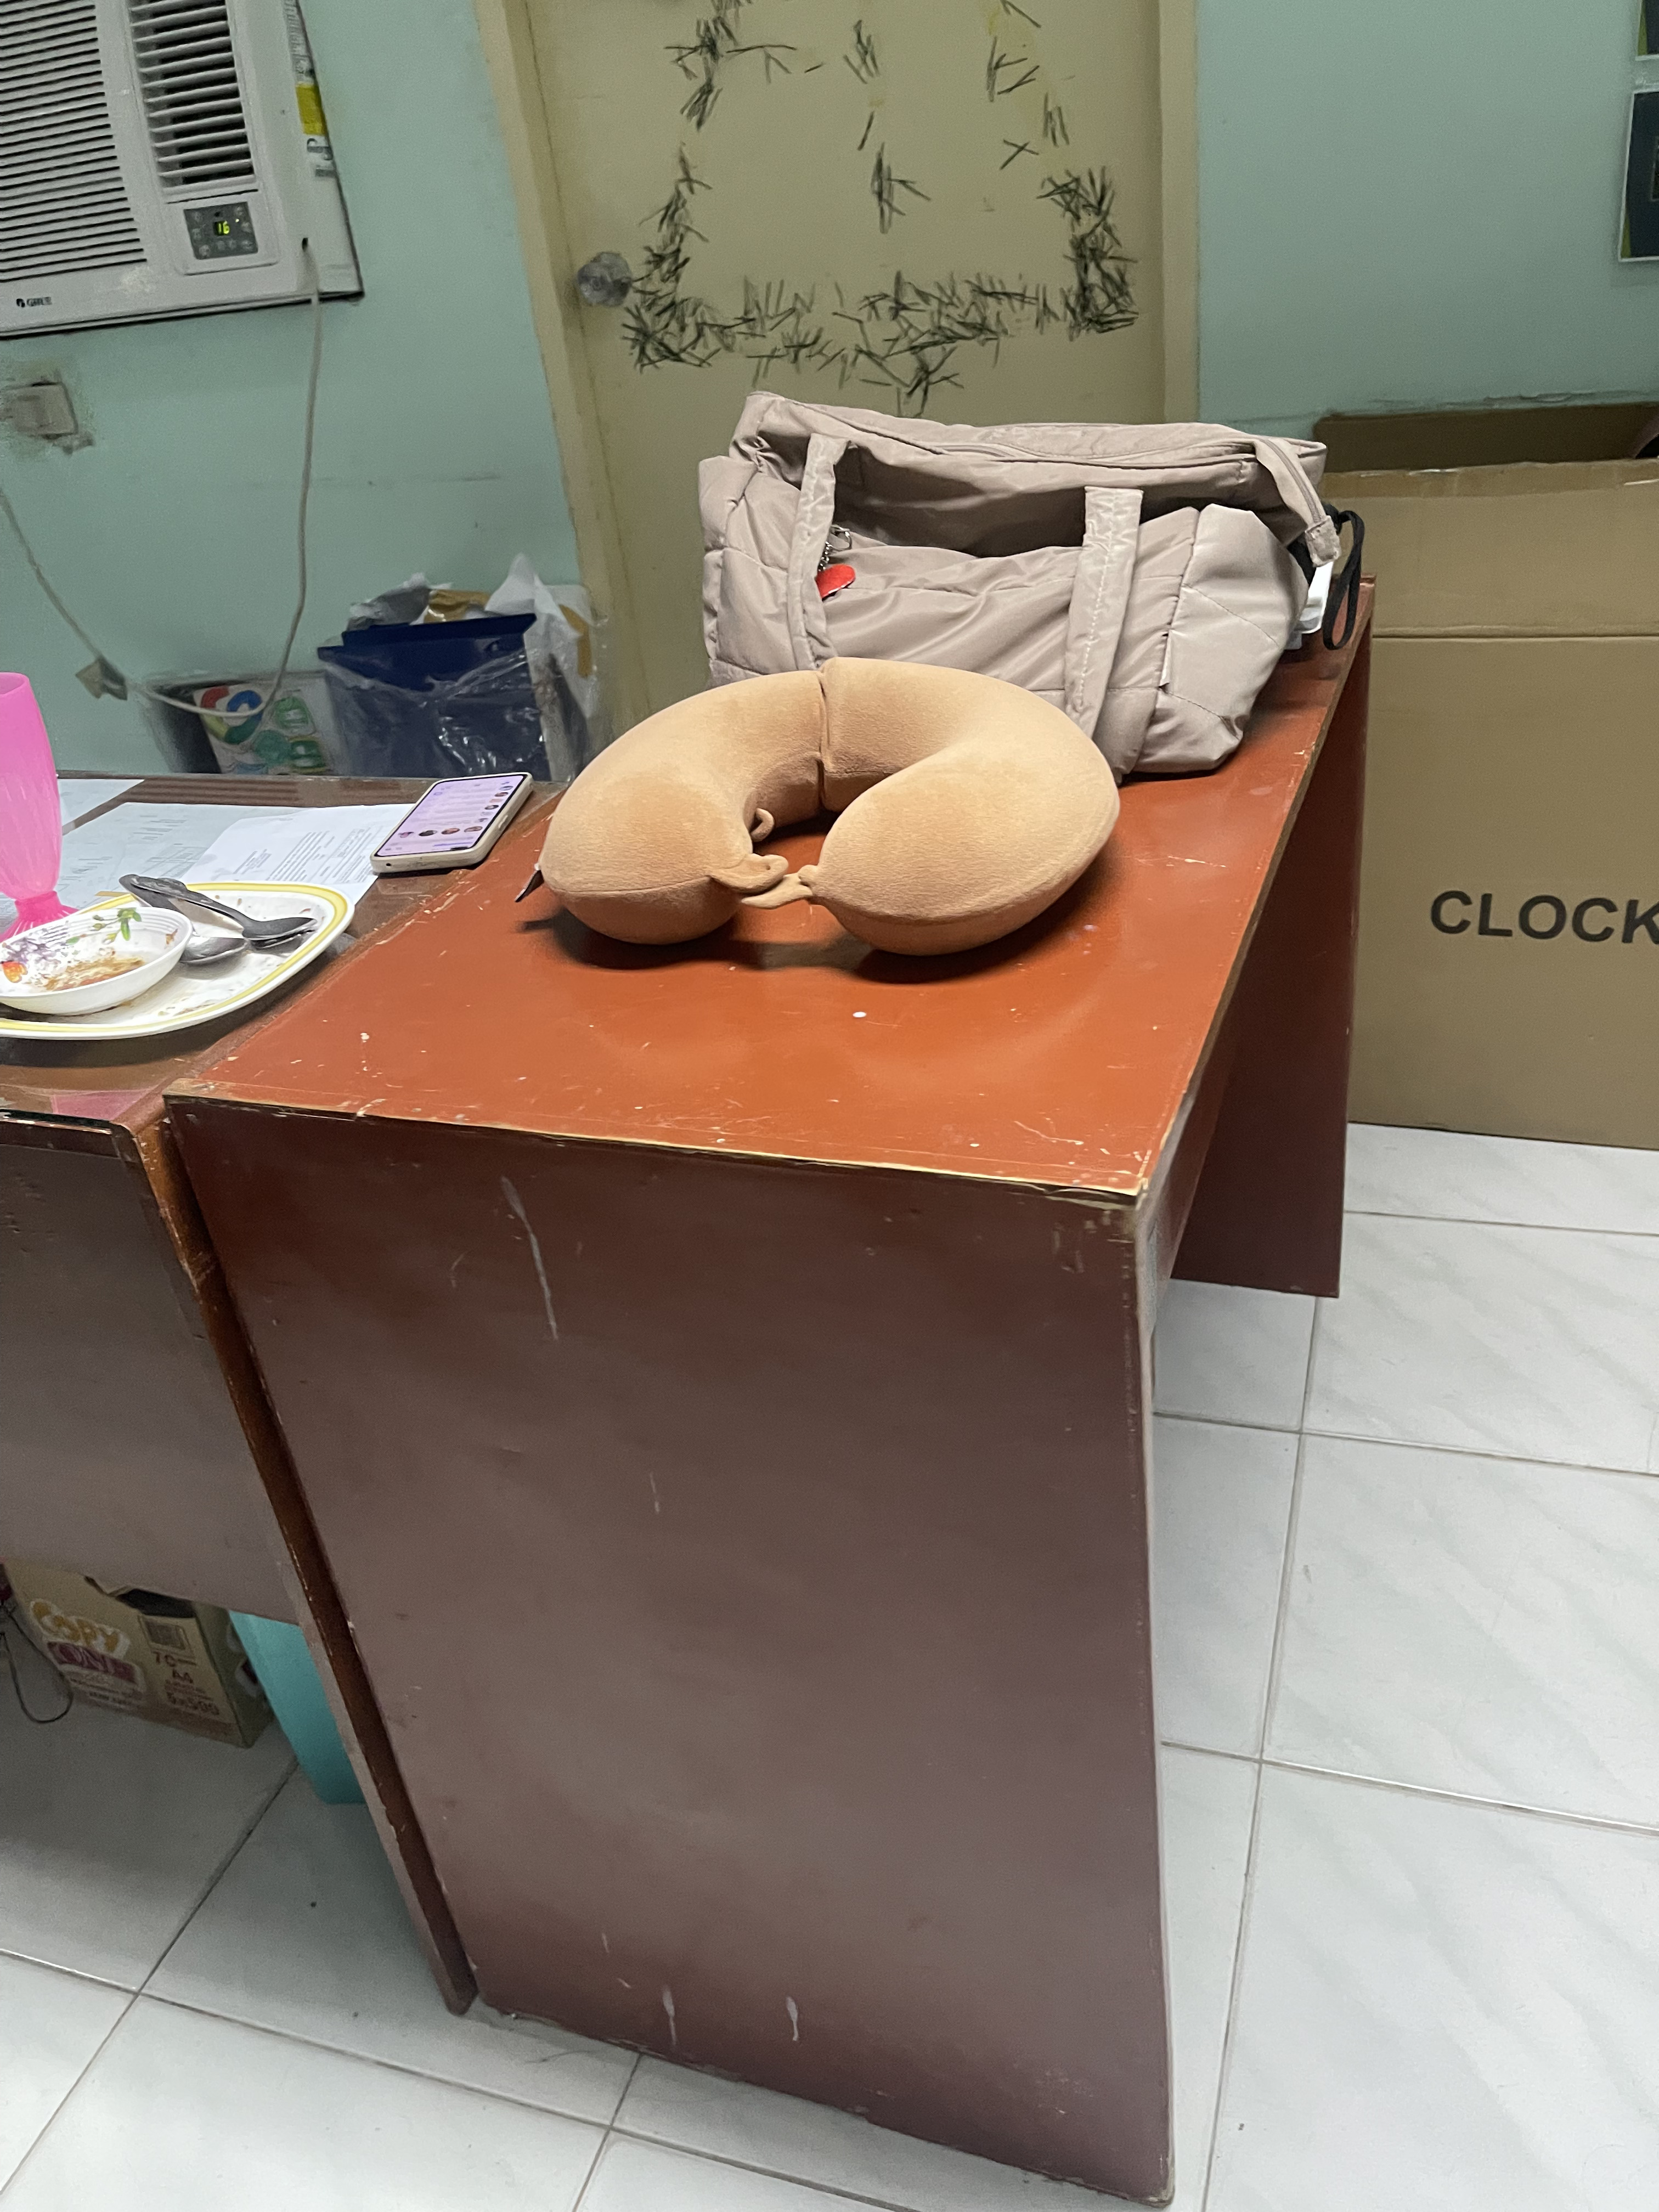table2: (0, 610, 1405, 2212)
